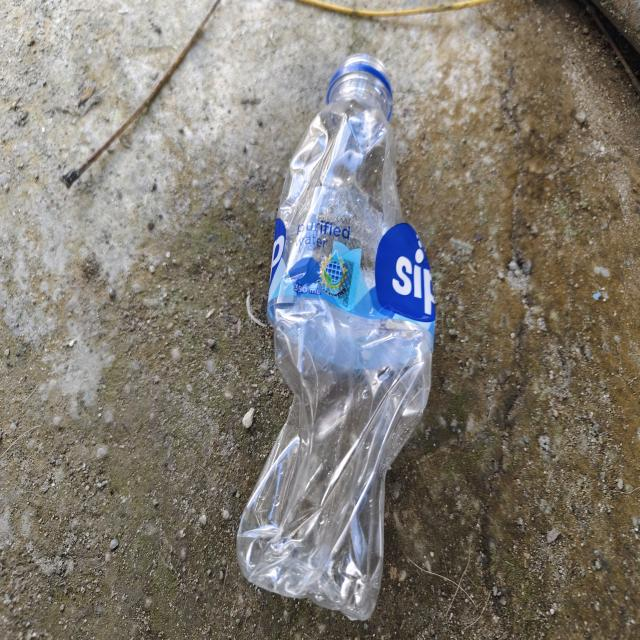Bottle: (234, 57, 438, 625)
